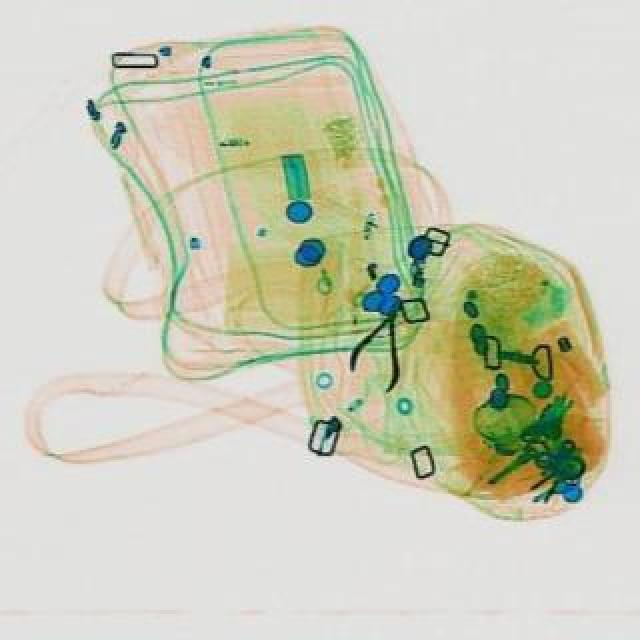wrench: (340, 294, 420, 394)
